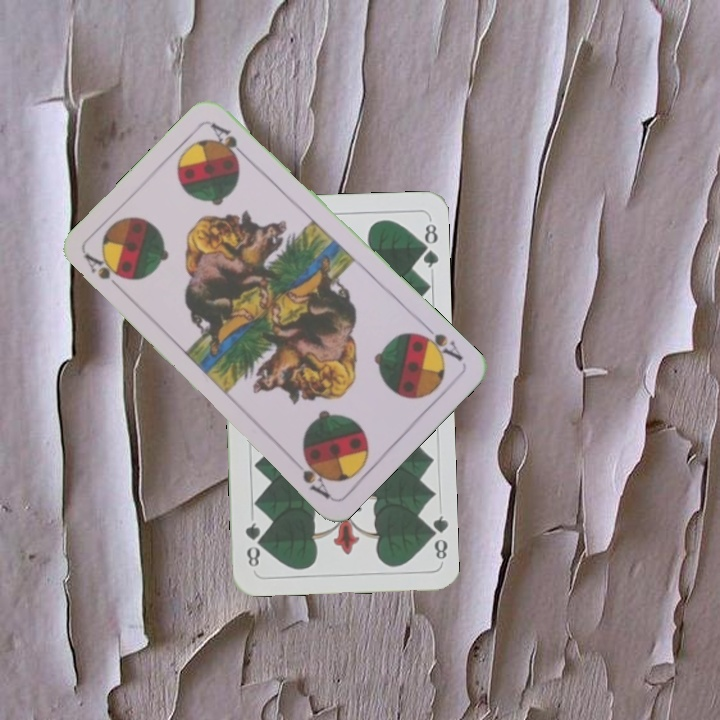G8: (422, 511, 450, 562)
SA: (411, 319, 466, 366), (80, 250, 128, 296)
